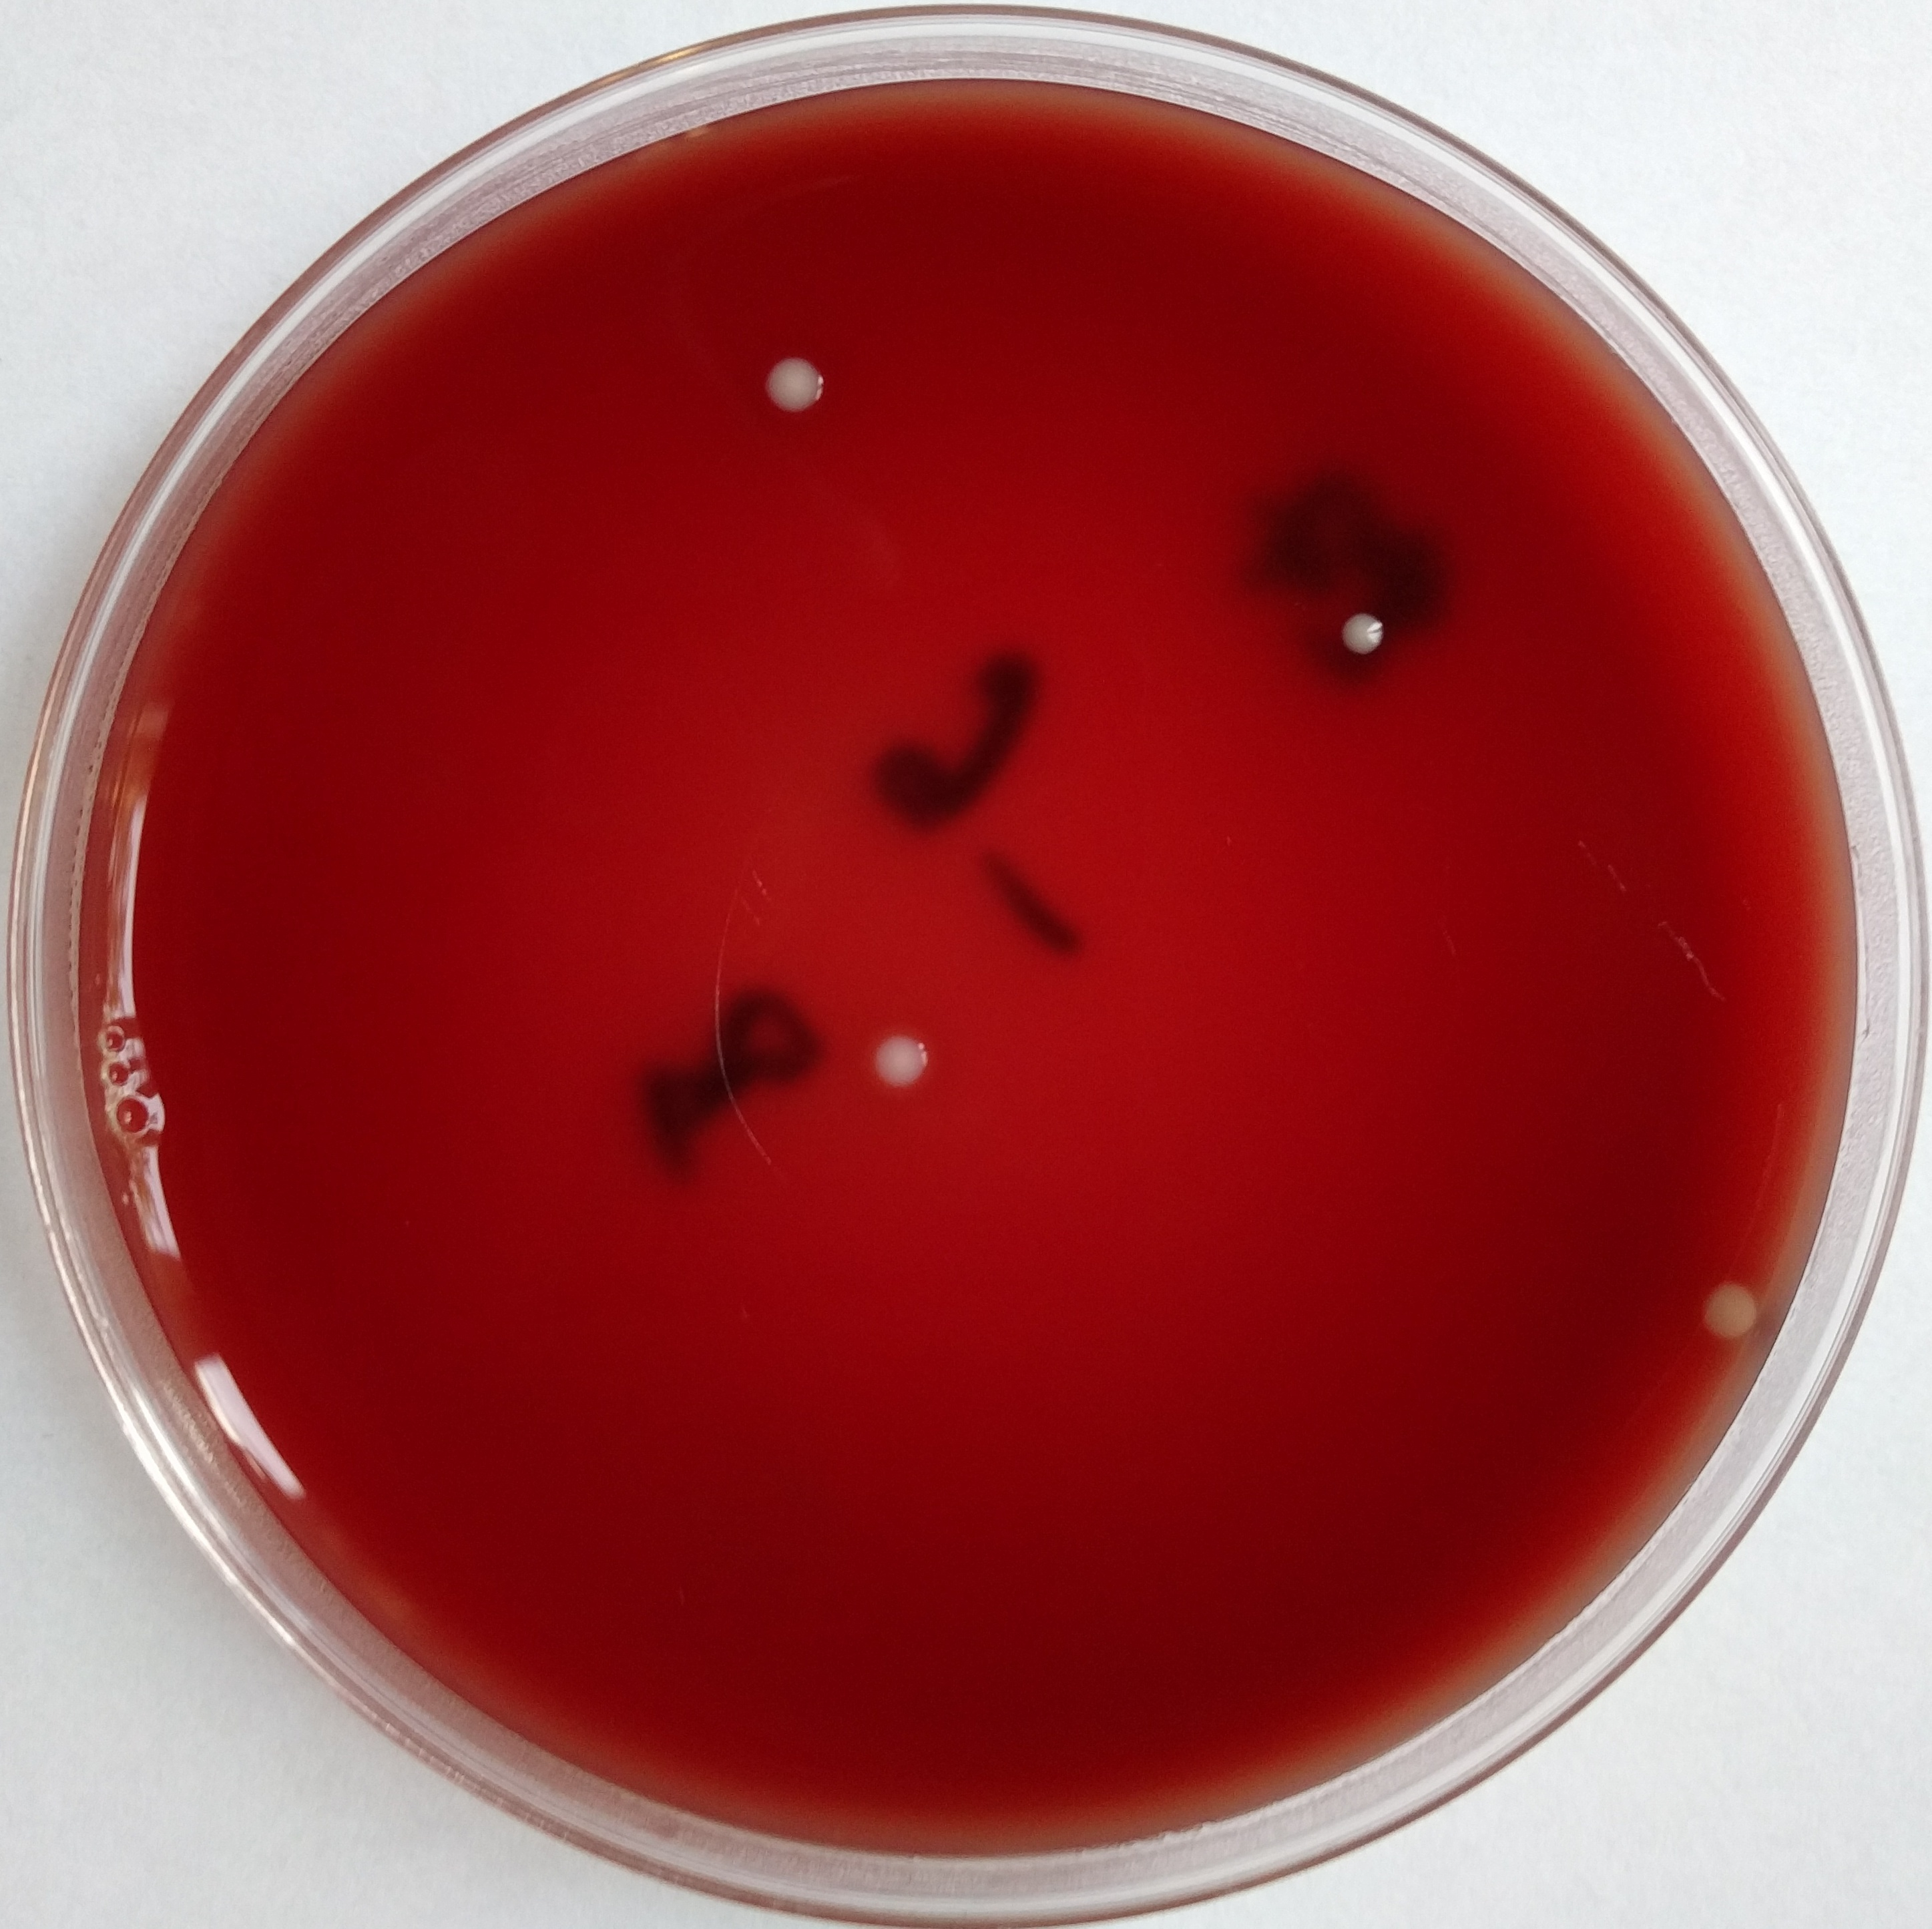sp01: (1660, 1228, 1773, 1341), (858, 1007, 948, 1097), (742, 334, 839, 415), (1335, 592, 1406, 678)
